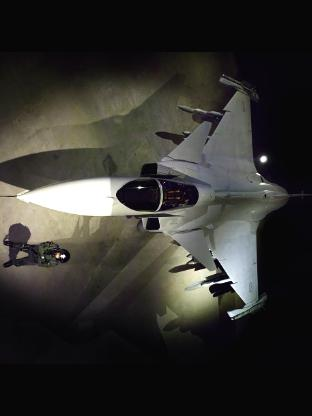JAS39: (0, 74, 311, 322)
